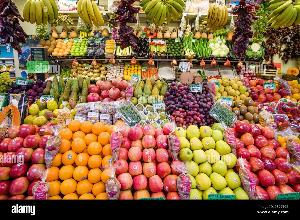apple: (236, 123, 300, 203), (177, 127, 247, 200), (116, 126, 176, 200), (0, 125, 49, 199)
grape: (166, 79, 214, 125)
kiwi: (224, 98, 260, 123)
orange: (51, 125, 115, 199)
pear: (46, 72, 92, 106), (132, 74, 170, 106)
plum: (8, 75, 50, 106)
pomegranate: (88, 72, 130, 105)
